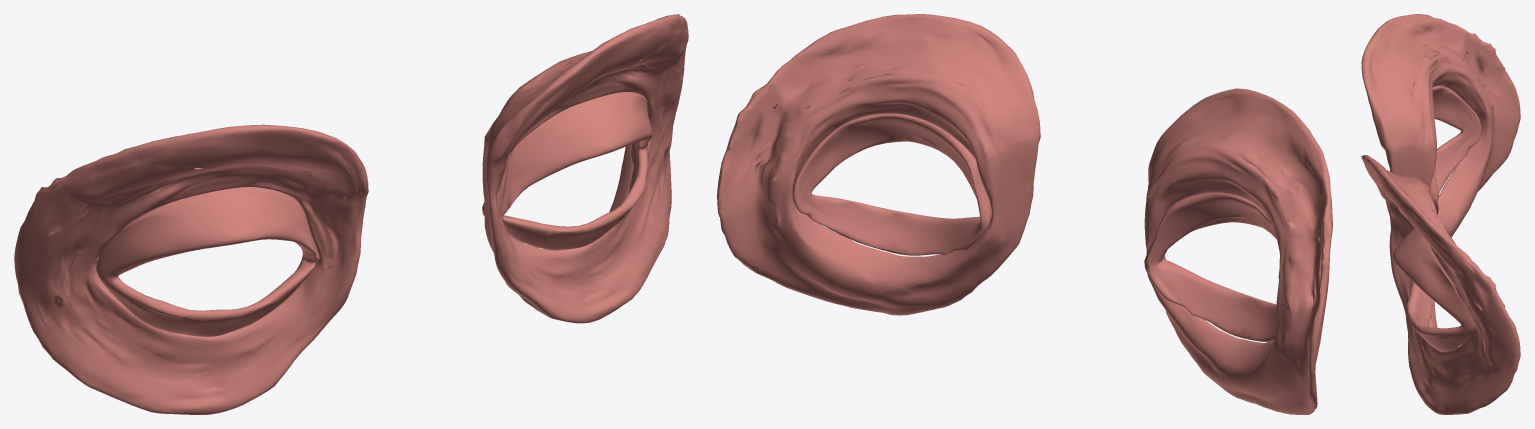
Rendered from orbicularis_oculi.glb.
3 views of the same model, side by side, from view 1: azimuth 30°, elevation 25°; view 2: azimuth 150°, elevation 25°; view 3: azimuth 270°, elevation 25° (orthographic). The views are drawn at different scales.
Visible parts, largest first — view 1: orbicularis_oculi_R, orbicularis_oculi_L; view 2: orbicularis_oculi_L, orbicularis_oculi_R; view 3: orbicularis_oculi_R, orbicularis_oculi_L.
Boxes of the visible parts, <box> form: orbicularis_oculi_R: <box>14,124,368,414</box>; orbicularis_oculi_L: <box>482,14,688,323</box>; orbicularis_oculi_L: <box>717,14,1040,315</box>; orbicularis_oculi_R: <box>1144,88,1332,414</box>; orbicularis_oculi_R: <box>1361,14,1520,237</box>; orbicularis_oculi_L: <box>1361,155,1520,414</box>.
Bounding box in the file's own units: 0.1119 × 0.0502 × 0.0311.
